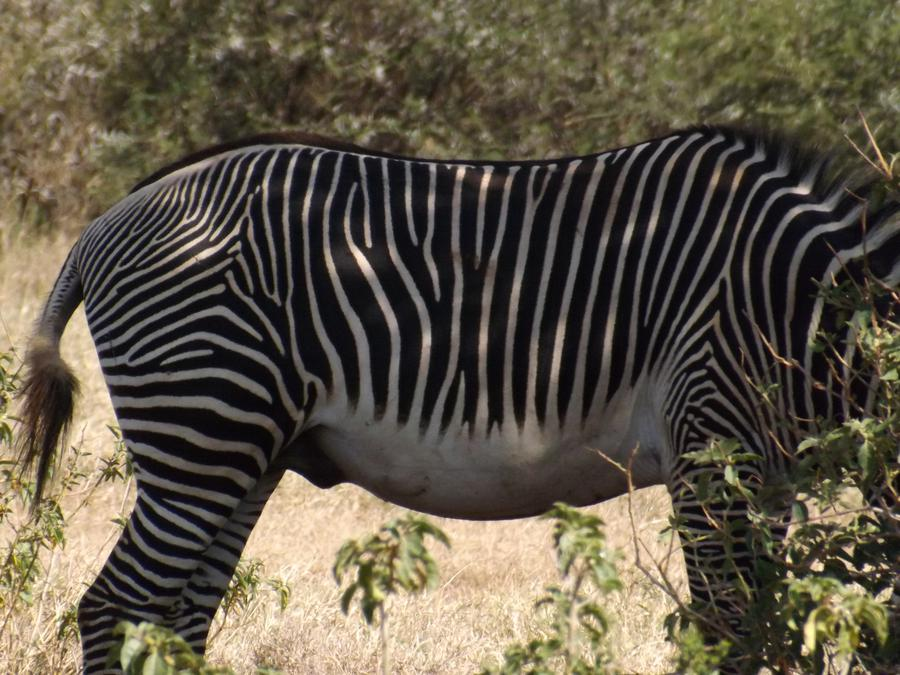zebra_grevys: (69, 100, 827, 492)
